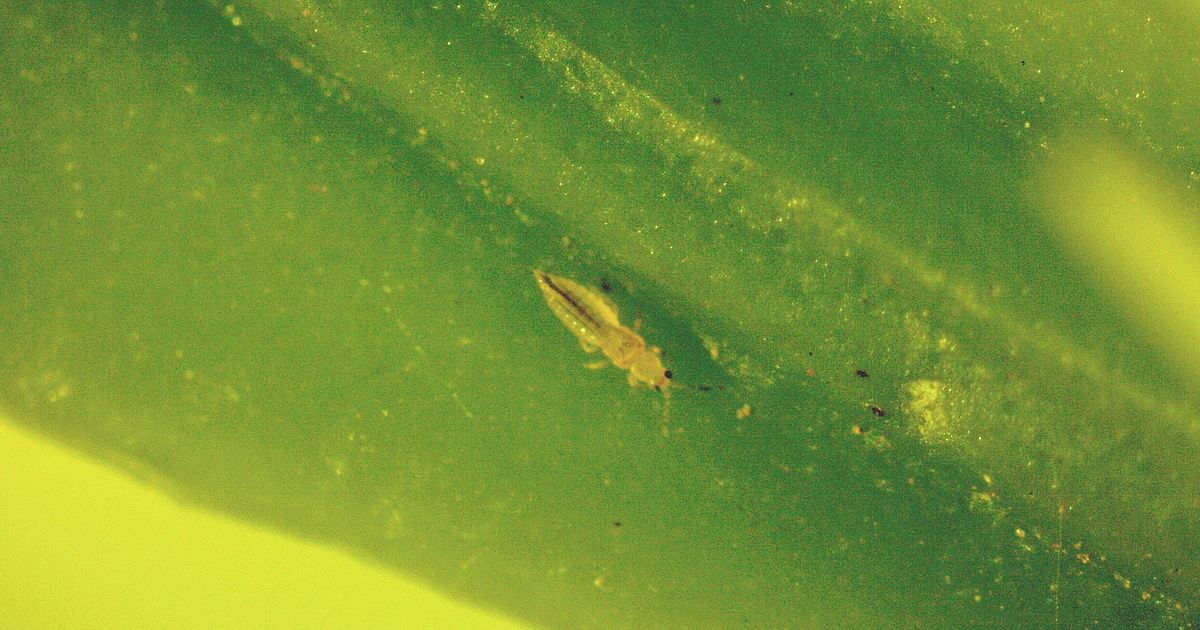Thrips: (529, 262, 693, 412)
